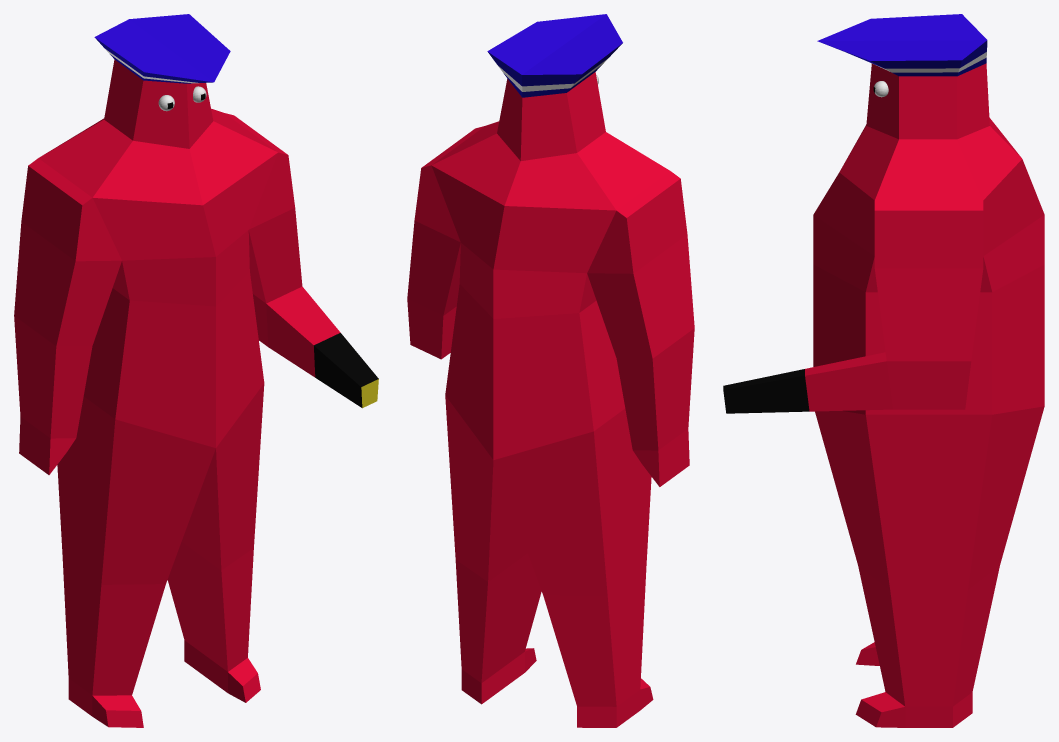
File: cop_model.fbx
3 renders of one model, left to right at view 1: azimuth 30°, elevation 25°; view 2: azimuth 150°, elevation 25°; view 3: azimuth 270°, elevation 25°, orthographic.
Parts seen in each view (by area): view 1: Cop; view 2: Cop; view 3: Cop.
Part boxes in pixels (bbox=[...]): Cop: bbox=[14, 14, 378, 727]; Cop: bbox=[407, 14, 694, 727]; Cop: bbox=[723, 14, 1044, 727].
Bounding box in the file's own units: 456 × 1023 × 406.
